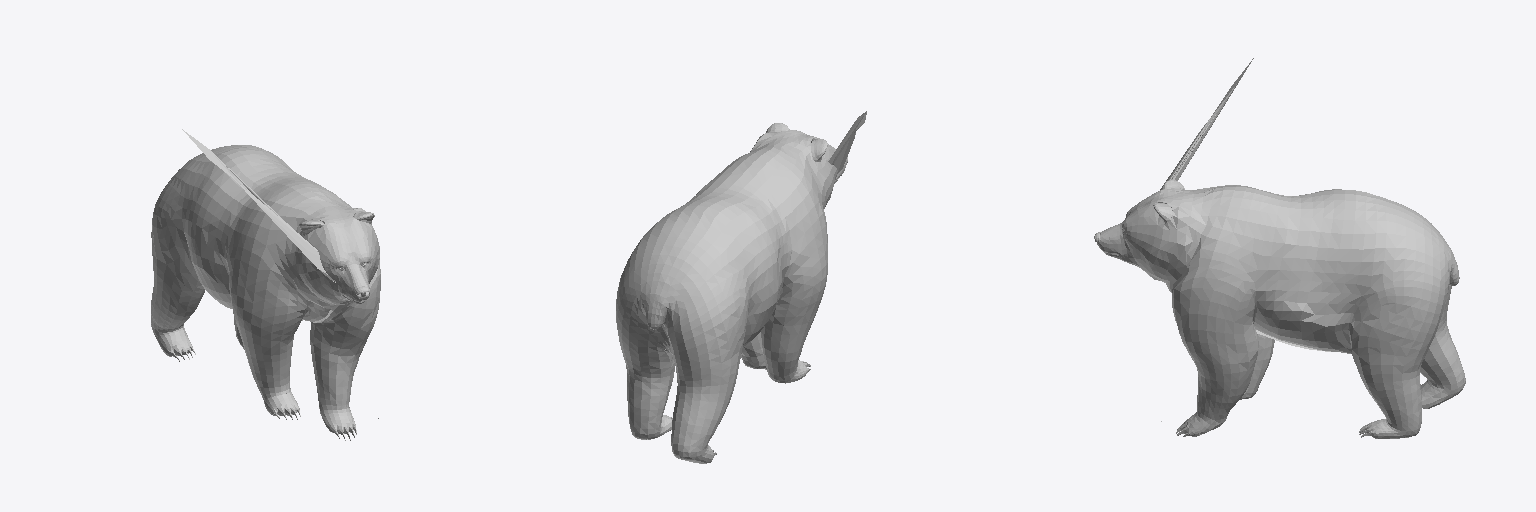
The model's file is Bear0189.obj.
3 renders of one model, left to right at view 1: azimuth 30°, elevation 25°; view 2: azimuth 150°, elevation 25°; view 3: azimuth 270°, elevation 25°, orthographic.
Parts seen in each view (by area): view 1: Object_237; view 2: Object_237; view 3: Object_237.
Boxes of the visible parts, box(x1,y1,x2,y2) form: Object_237: box(151, 129, 380, 440); Object_237: box(616, 111, 866, 463); Object_237: box(1094, 58, 1465, 438).
Bounding box in the file's own units: 2.65 × 4.59 × 4.91.